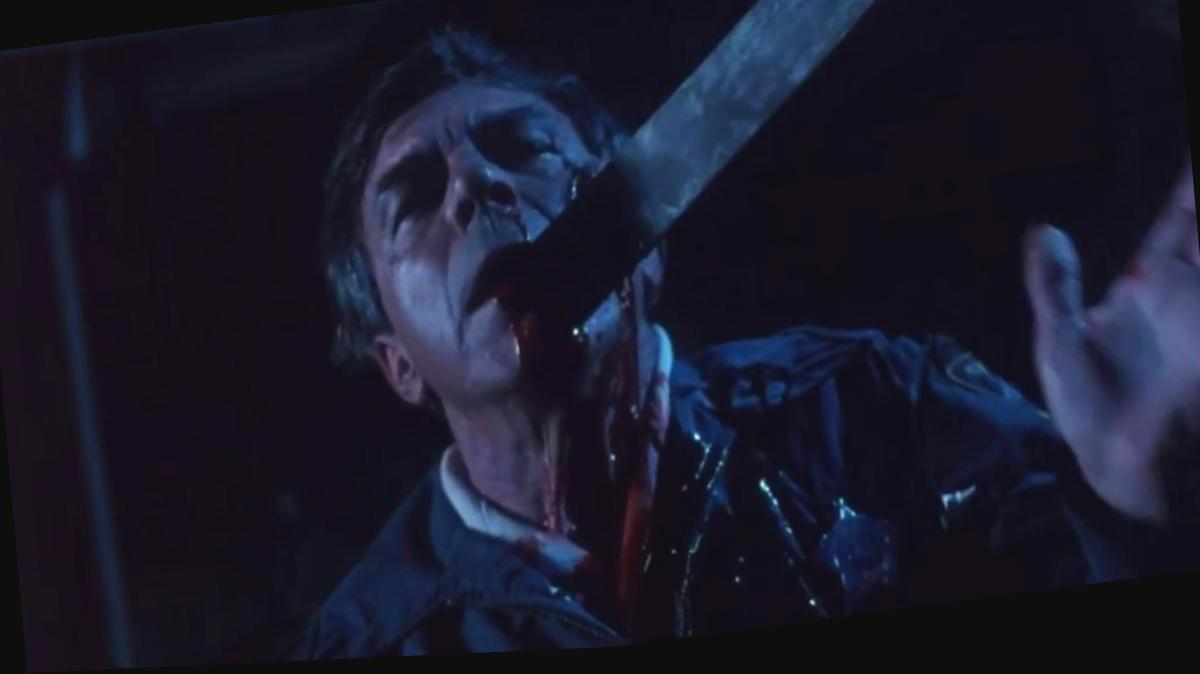Fire: (494, 288, 911, 651)
